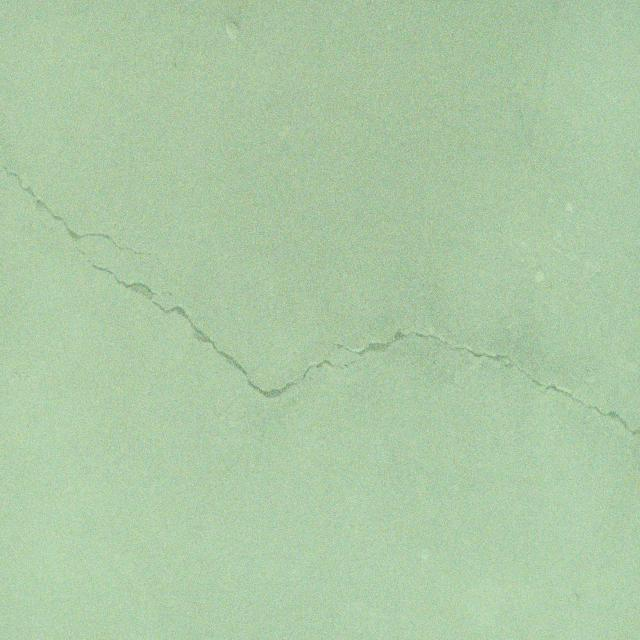crack: (2, 164, 640, 437), (192, 412, 270, 636)
